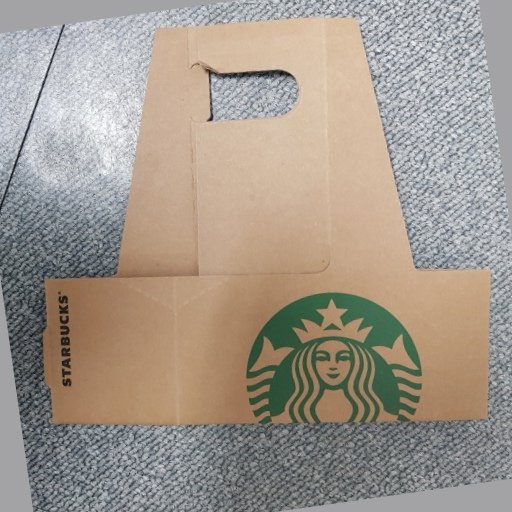Paper_0: (38, 17, 501, 442)
